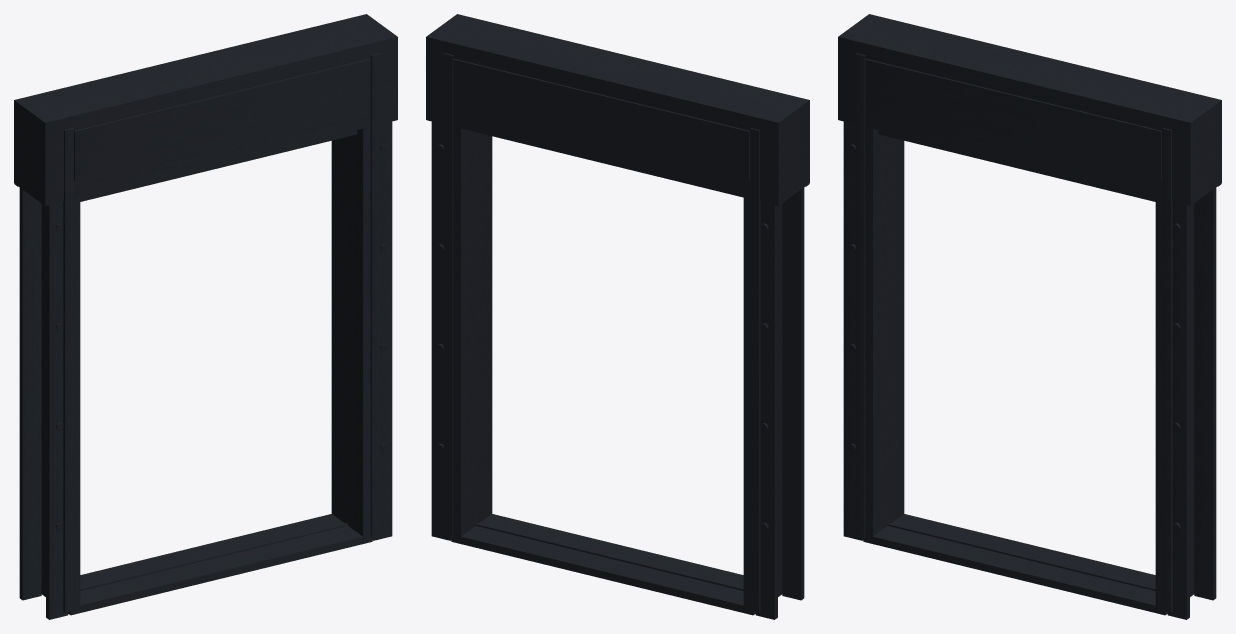
Rendered from door_frame.glb.
3 renders of one model, left to right at view 1: azimuth 30°, elevation 25°; view 2: azimuth 150°, elevation 25°; view 3: azimuth 330°, elevation 25°, orthographic.
Parts seen in each view (by area): view 1: door_frame; view 2: door_frame; view 3: door_frame.
Part boxes in pixels (<box>): door_frame: <box>14,14,397,619</box>; door_frame: <box>426,14,809,619</box>; door_frame: <box>838,14,1221,619</box>.
Size of the model in its own units: 2.22 by 3 by 0.365.
Materials: 2 (2 with a texture image).
